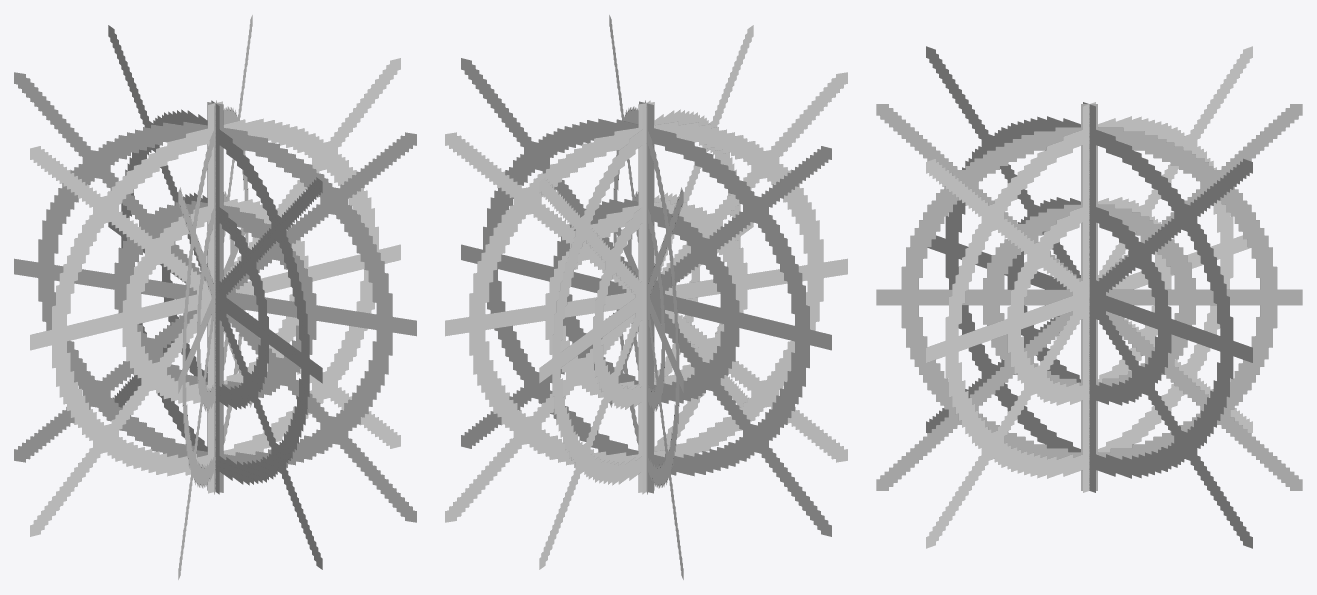
The model's file is SpiderWeb.fbx.
3 renders of one model, left to right at view 1: azimuth 30°, elevation 25°; view 2: azimuth 150°, elevation 25°; view 3: azimuth 270°, elevation 25°, orthographic.
Visible parts, largest first — view 1: SpiderWeb4, SpiderWeb1, SpiderWeb2, SpiderWeb5; view 2: SpiderWeb5, SpiderWeb1, SpiderWeb2, SpiderWeb4; view 3: SpiderWeb2, SpiderWeb5, SpiderWeb4.
Boxes of the visible parts, left/top/right/bottom form: SpiderWeb4: left=14, top=72, right=416, bottom=522; SpiderWeb1: left=30, top=58, right=400, bottom=536; SpiderWeb2: left=108, top=25, right=322, bottom=569; SpiderWeb5: left=178, top=15, right=252, bottom=579; SpiderWeb5: left=445, top=72, right=847, bottom=522; SpiderWeb1: left=461, top=58, right=831, bottom=536; SpiderWeb2: left=539, top=25, right=753, bottom=569; SpiderWeb4: left=609, top=15, right=683, bottom=579; SpiderWeb2: left=876, top=104, right=1302, bottom=490; SpiderWeb5: left=926, top=46, right=1252, bottom=548; SpiderWeb4: left=926, top=46, right=1252, bottom=548.
Size of the model in its own units: 0.04 by 0.04 by 0.04.
Materials: 1 (1 with a texture image).
